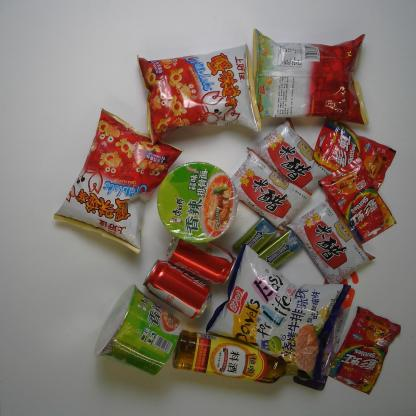Candy: (320, 301, 402, 398), (316, 154, 401, 244), (309, 116, 398, 193)
Drink: (140, 252, 214, 321), (160, 231, 240, 284)
Gum: (226, 214, 277, 259), (256, 228, 303, 268)
Instant Noodles: (91, 283, 181, 378), (156, 158, 241, 246)
Personal Hygiene: (290, 270, 358, 393)
Puffed Food: (198, 242, 354, 389), (53, 106, 186, 256), (246, 24, 371, 135), (135, 42, 267, 147)
Seasoner: (288, 200, 376, 285), (166, 325, 292, 384), (228, 143, 312, 231), (247, 121, 334, 197)
